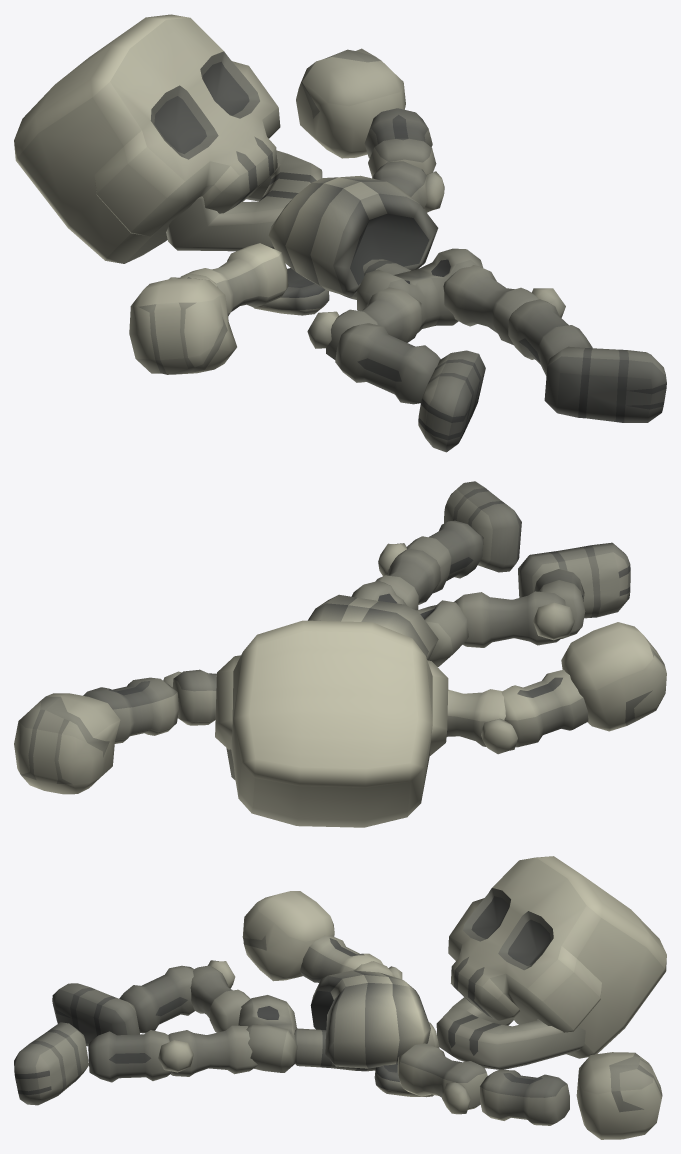
The model's file is deco_skeleton.fbx.
The picture shows the model from 3 angles, top to bottom: view 1: azimuth 30°, elevation 25°; view 2: azimuth 150°, elevation 25°; view 3: azimuth 270°, elevation 25°; orthographic projection. The views are drawn at different scales.
Parts seen in each view (by area): view 1: deco_skeleton; view 2: deco_skeleton; view 3: deco_skeleton.
Boxes of the visible parts, bbox=[...] form: deco_skeleton: bbox=[14, 14, 666, 452]; deco_skeleton: bbox=[14, 481, 666, 827]; deco_skeleton: bbox=[14, 856, 666, 1139].
Size of the model in its own units: 126 by 56.51 by 188.
